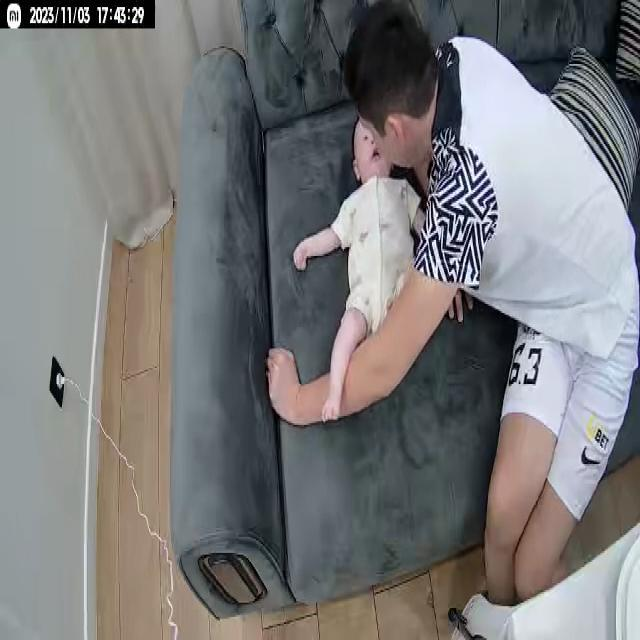baby: (292, 112, 432, 434)
